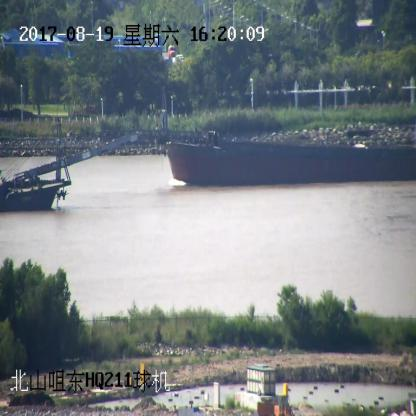Bulk Carrier: (99, 92, 416, 188)
